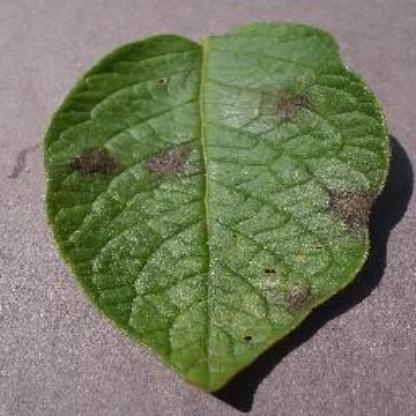Late-Blight: (35, 16, 411, 388)
